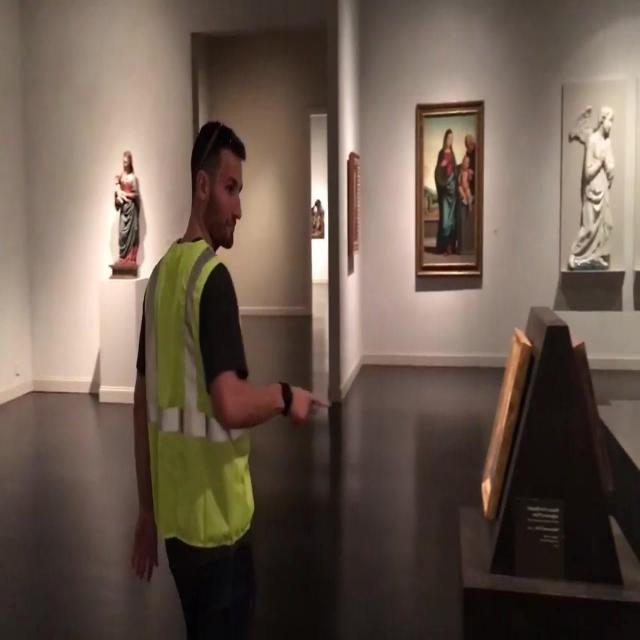reflective_jacket: (124, 231, 268, 564)
